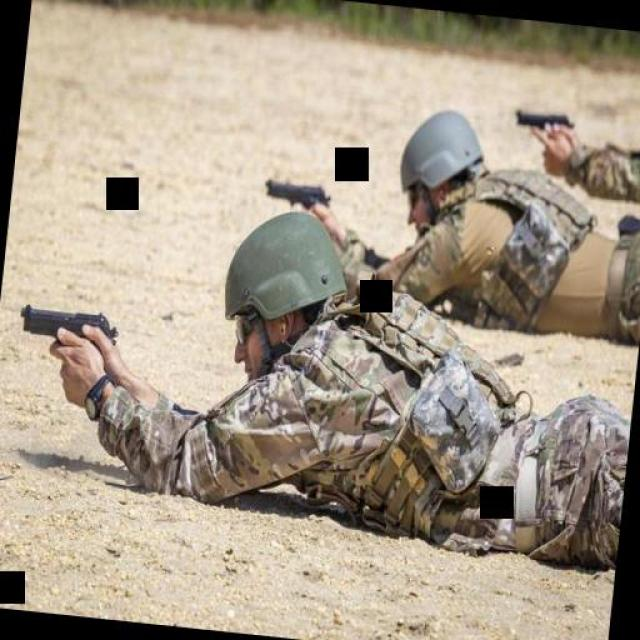gun: (12, 298, 122, 352), (258, 172, 332, 214), (512, 103, 576, 135)
